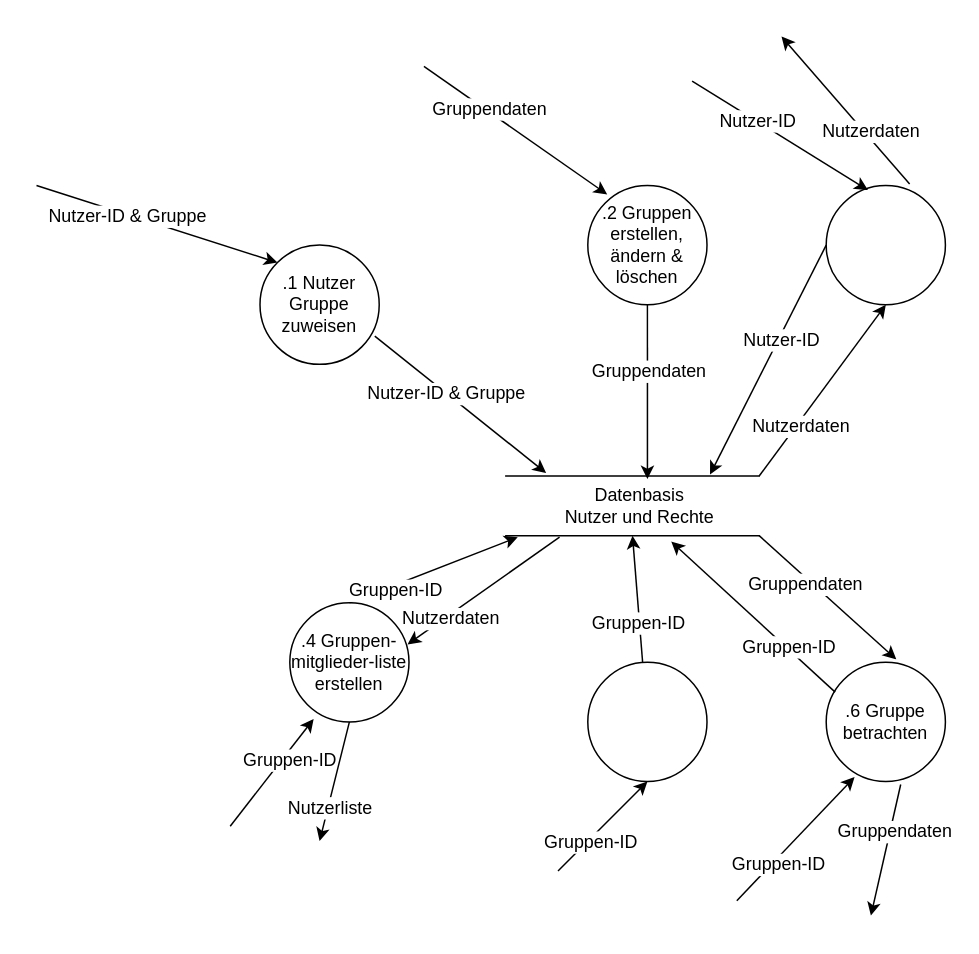
Image size: 979x954. Some labels were removed from this diagram. The shapes that lost their labels are listed below. From the top down, each one's centre as x and y in pixels, then its label:
At pixel 885 244: ".3 Nutzer betrachten".
At pixel 646 721: ".5 Gruppen-rechte ändern".
